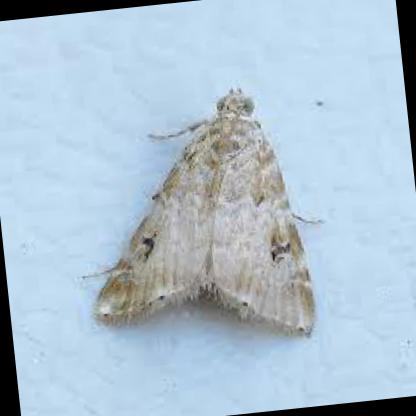Hellula undalis: (71, 75, 329, 343)
